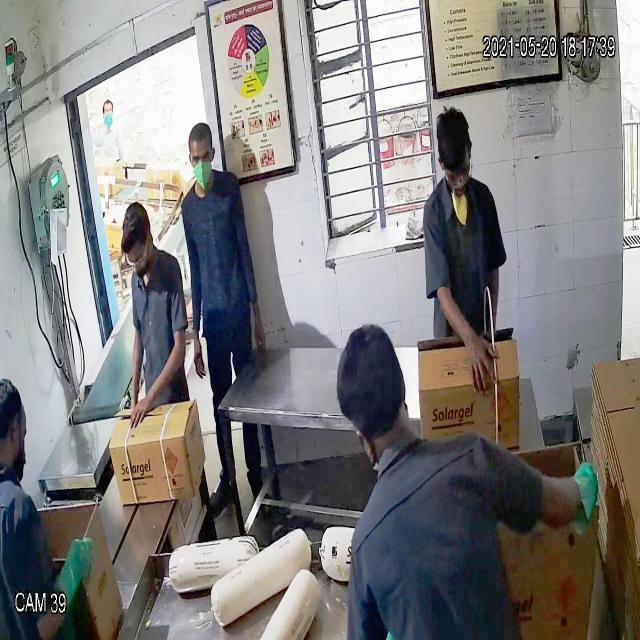glasses: (119, 242, 153, 274), (436, 157, 472, 185)
no-glass: (187, 145, 216, 170)
